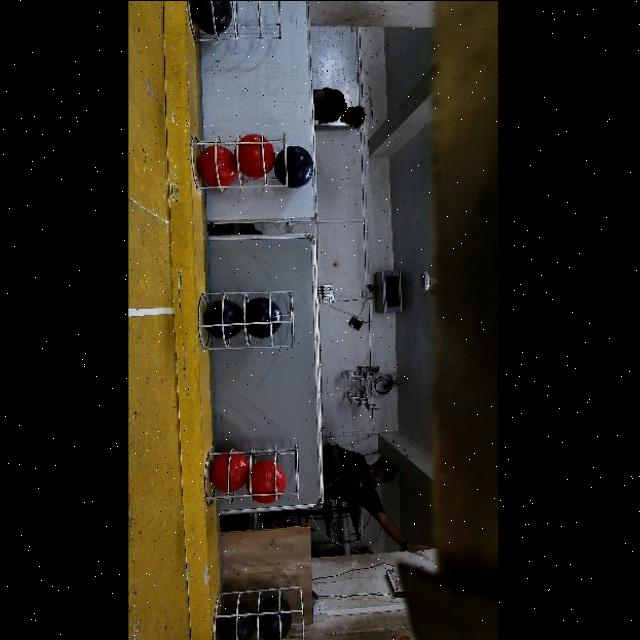P: (274, 145, 314, 187), (243, 297, 283, 337), (205, 299, 244, 338), (259, 595, 292, 640), (220, 601, 257, 640), (192, 0, 233, 33)
R: (198, 144, 237, 186), (239, 133, 276, 177), (210, 452, 249, 491), (250, 460, 286, 502)
S: (186, 120, 292, 197), (204, 449, 302, 515), (200, 294, 300, 352), (210, 586, 306, 640), (193, 0, 287, 46)
